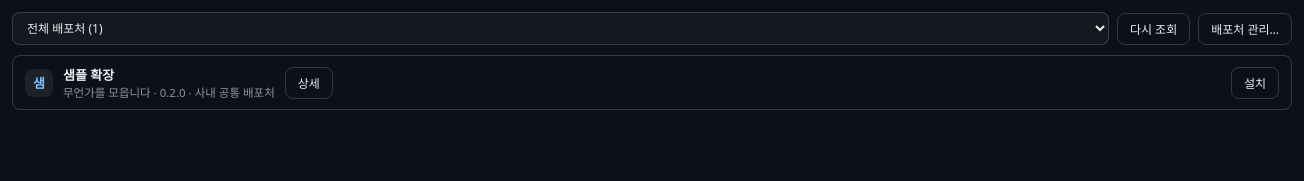
내려받아 설치 › 실패해도 목록을 다시 읽지 않는다 — 달라진 것이 없다
This screenshot has width=1304, height=181.
Click the button "설치" at (1255, 82), box [1231, 66, 1279, 98]
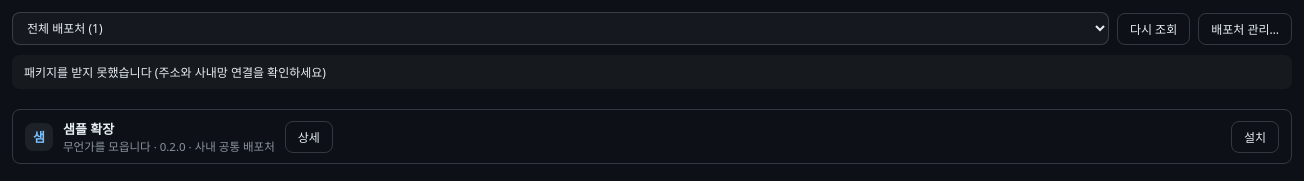
Expected: the text "패키지를 받지 못했습니다 (주소와 사내망 연결을 확인하세요)" is shown, [12, 55, 1292, 89]
